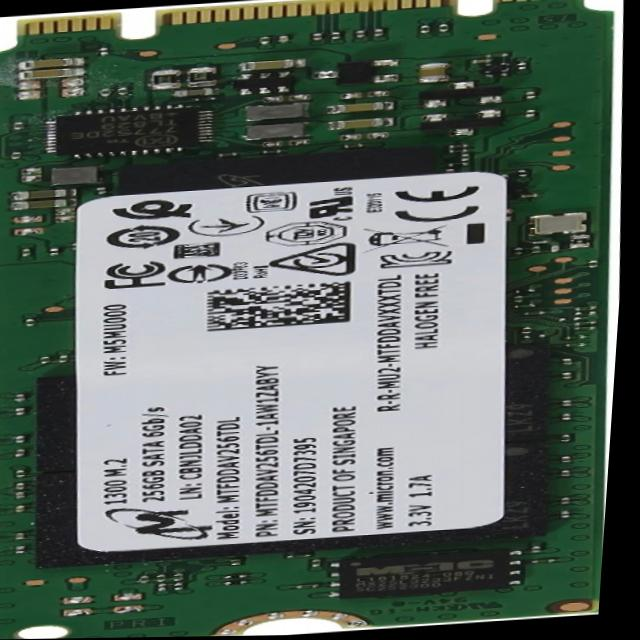datamatrix: (208, 282, 359, 333)
